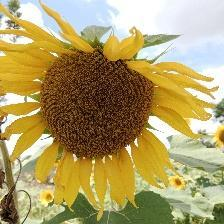sunflower: (1, 1, 220, 223), (38, 191, 62, 210), (169, 170, 187, 192), (216, 122, 224, 147)
